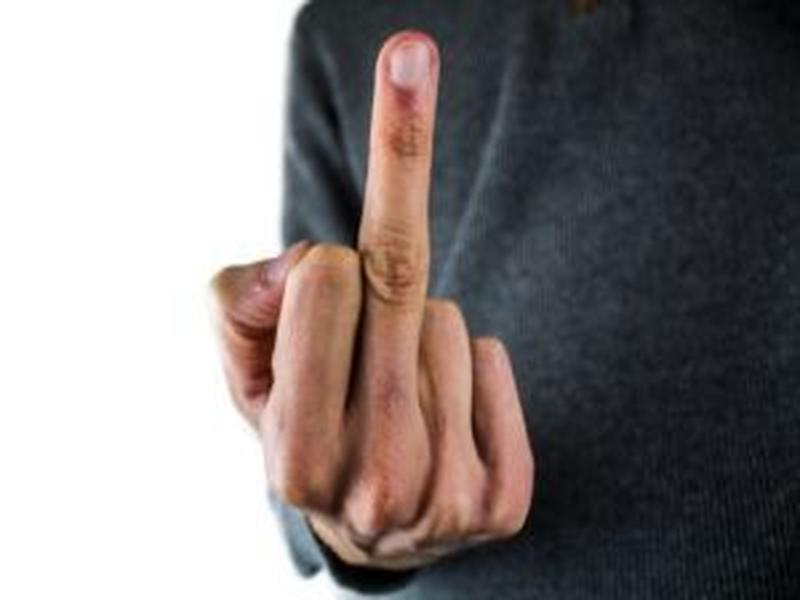flipping_the_bird: (220, 32, 544, 553)
